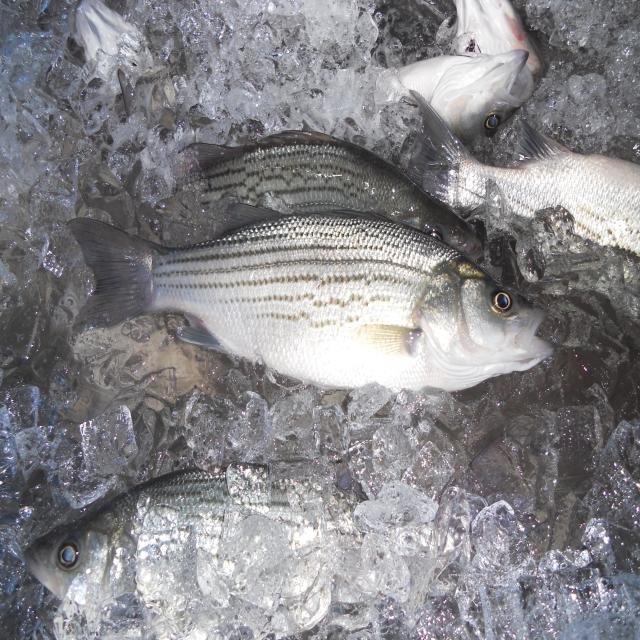Bass - Striped: (68, 214, 553, 391), (177, 131, 481, 259), (408, 91, 640, 256), (394, 49, 534, 140), (454, 0, 542, 75)
